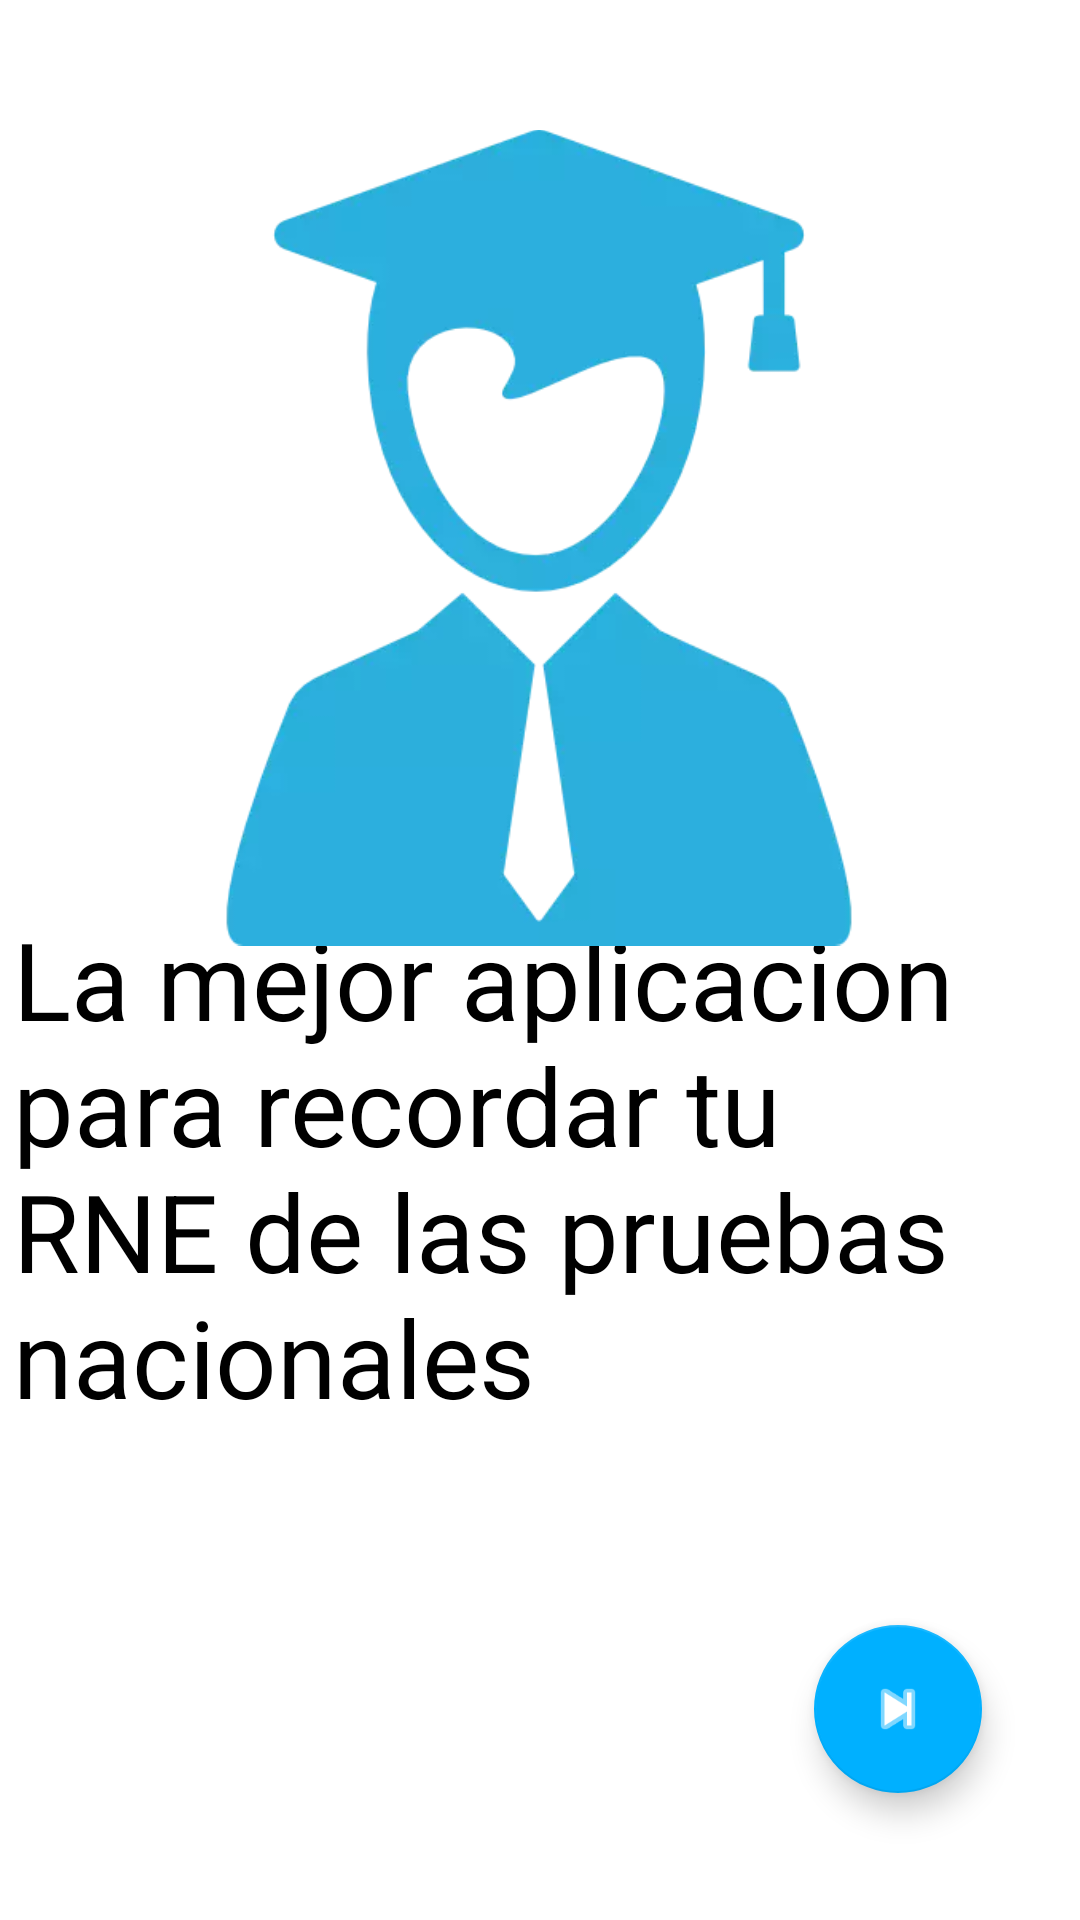

Named icons in this screenshot (1080 x 1920) and their centers, (x=x, y=y):
next: (x=898, y=1709)
